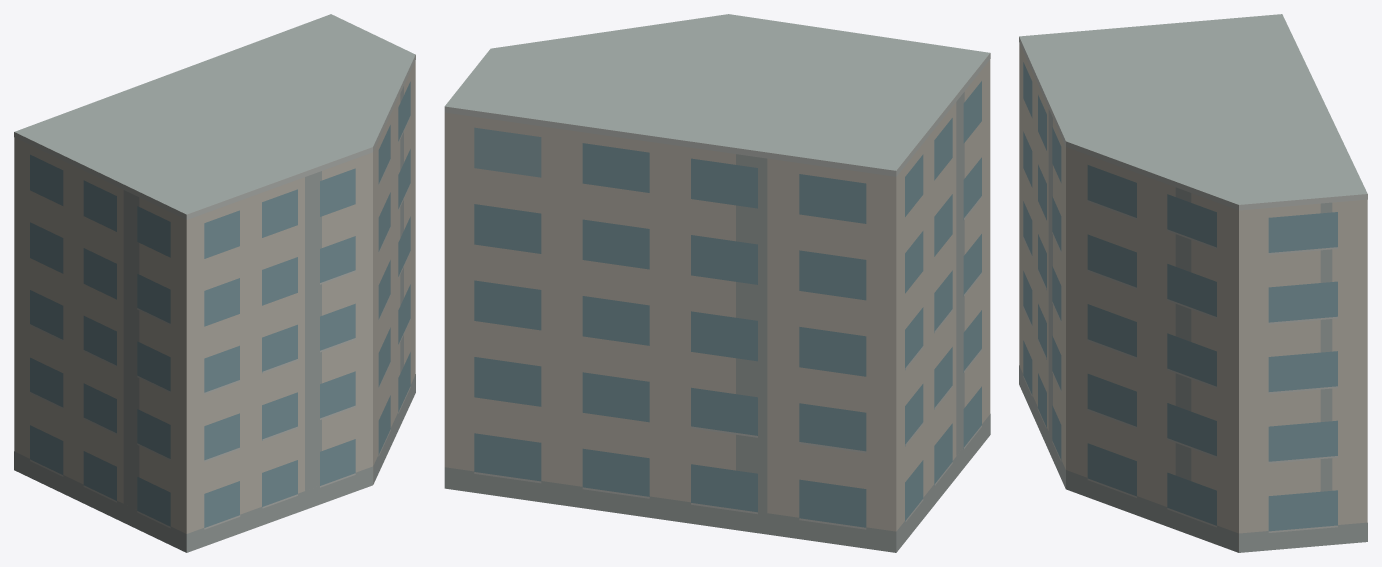
File: residential-152d3efb-2e35-4ba5-a0a2-b79bc528fe34.glb
The picture shows the model from 3 angles, left to right: view 1: azimuth 30°, elevation 25°; view 2: azimuth 150°, elevation 25°; view 3: azimuth 270°, elevation 25°; orthographic projection. The views are drawn at different scales.
Visible parts, largest first — view 1: residential-152d3efb-2e35-4ba5-a0a2-b79bc528fe34.tmp; view 2: residential-152d3efb-2e35-4ba5-a0a2-b79bc528fe34.tmp; view 3: residential-152d3efb-2e35-4ba5-a0a2-b79bc528fe34.tmp.
Part boxes in pixels (x1,y1,x2,y2): residential-152d3efb-2e35-4ba5-a0a2-b79bc528fe34.tmp: (14,14,415,552); residential-152d3efb-2e35-4ba5-a0a2-b79bc528fe34.tmp: (444,14,990,552); residential-152d3efb-2e35-4ba5-a0a2-b79bc528fe34.tmp: (1019,14,1367,552).
Bounding box in the file's own units: 17.96 × 15.25 × 13.86.
